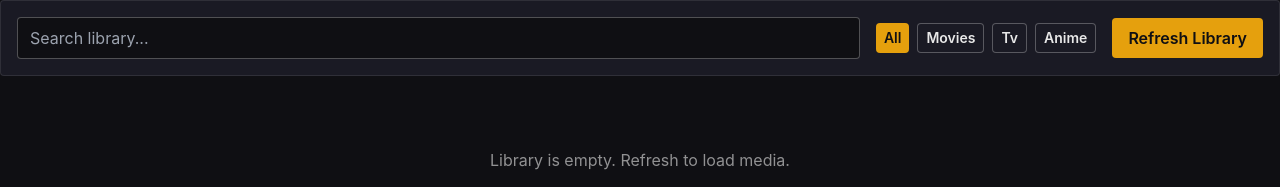
it: LibraryTab › Refresh button › should disable refresh button while loading
The width and height of the screenshot is (1280, 187).
Click the button "Refresh Library". click: (1188, 38)
box: [1112,18,1263,58]
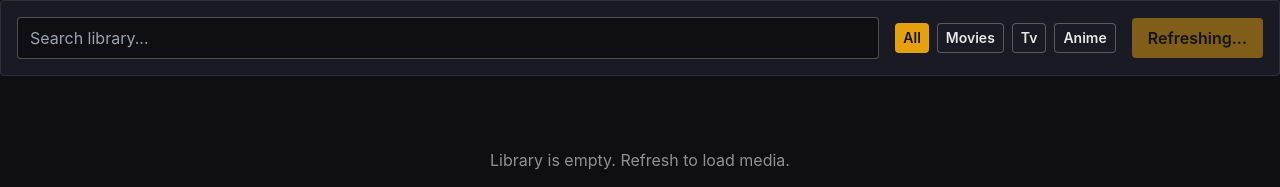
Expected: the button "Refreshing..." is disabled, [1132,18,1263,58]
